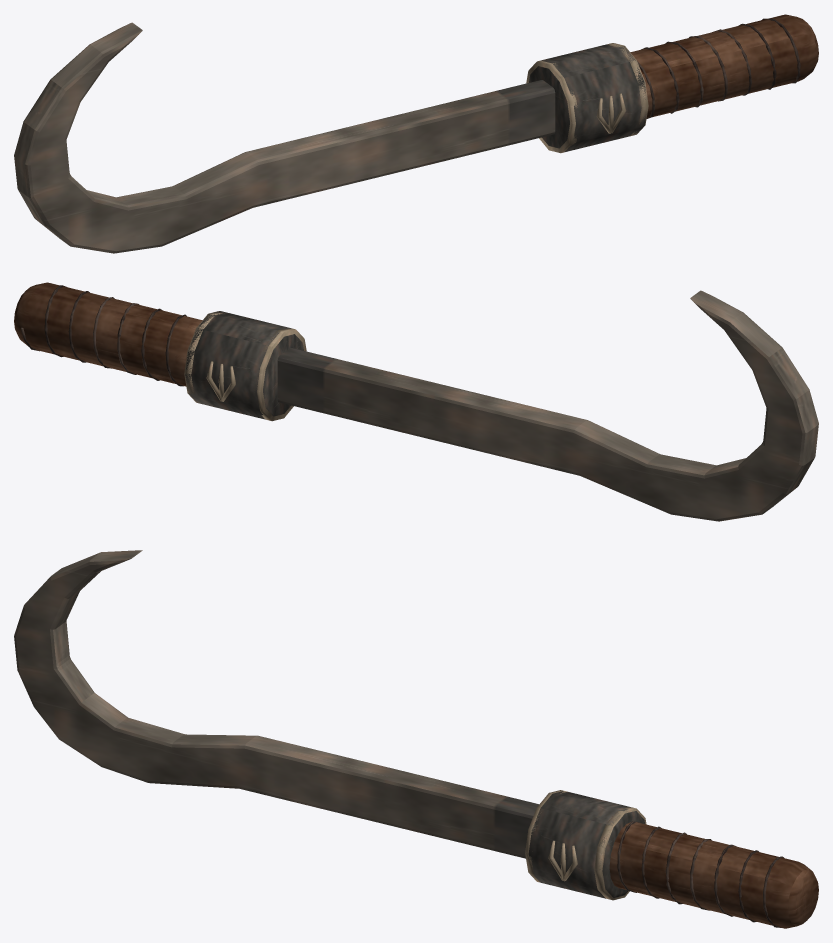
File: gancho_sira.glb
3 views of the same model, one above another, from view 1: azimuth 30°, elevation 25°; view 2: azimuth 150°, elevation 25°; view 3: azimuth 330°, elevation 25° (orthographic).
Visible parts, largest first — view 1: Gancho de inspección; view 2: Gancho de inspección; view 3: Gancho de inspección.
Boxes of the visible parts, x1,y1,x2,y2 form: Gancho de inspección: (14, 14, 818, 253); Gancho de inspección: (14, 282, 818, 521); Gancho de inspección: (14, 550, 818, 928).
Size of the model in its own units: 0.9 by 0.2451 by 0.1011.
Materials: 1 (1 with a texture image).
